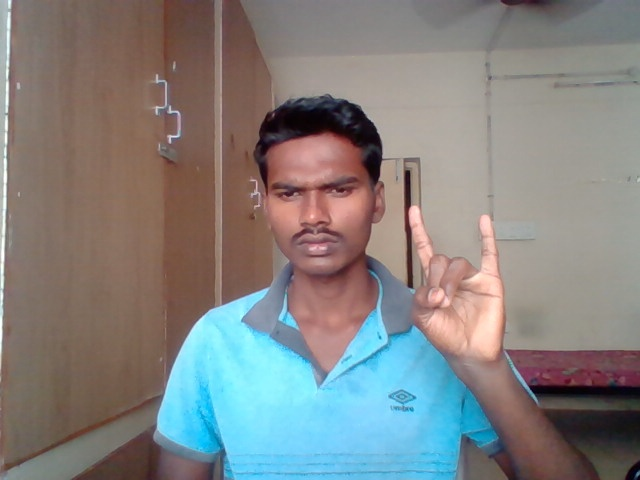I Love You: (404, 203, 506, 362)
